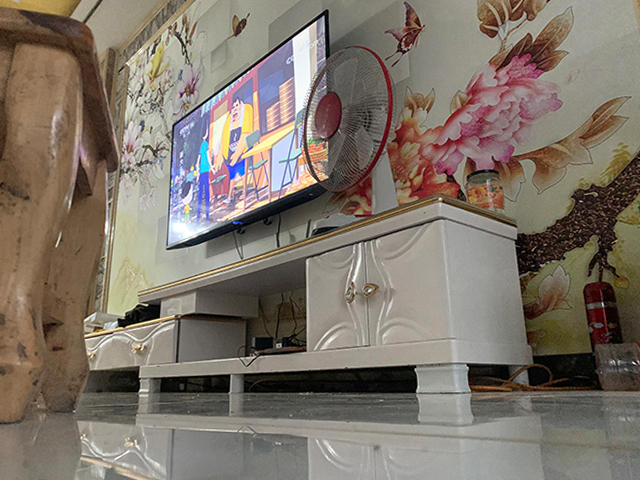cabinet: (77, 191, 534, 395)
stool: (1, 4, 120, 425)
wire: (468, 363, 599, 394)
